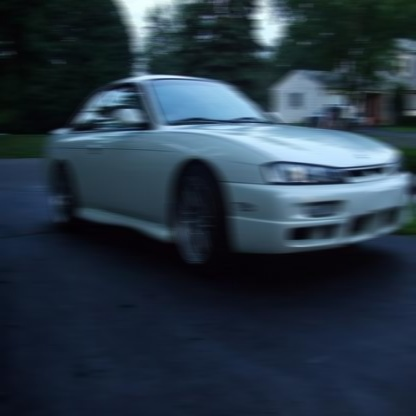Vehicle: (43, 73, 414, 281)
